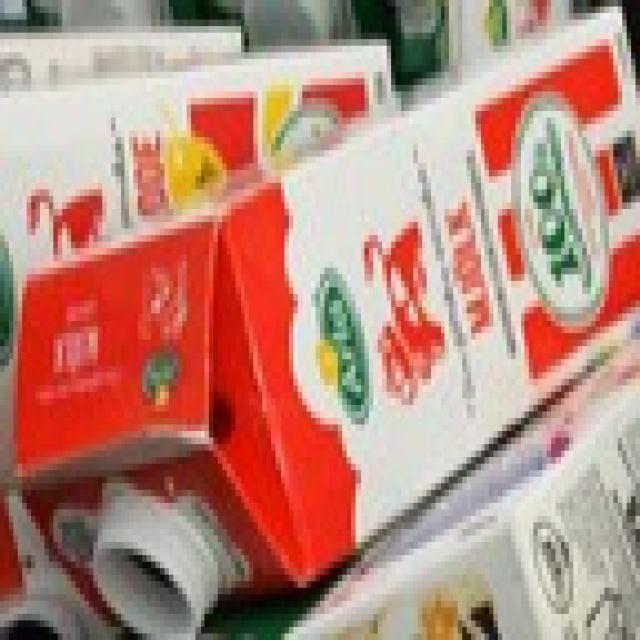drink carton: (3, 0, 640, 616)
